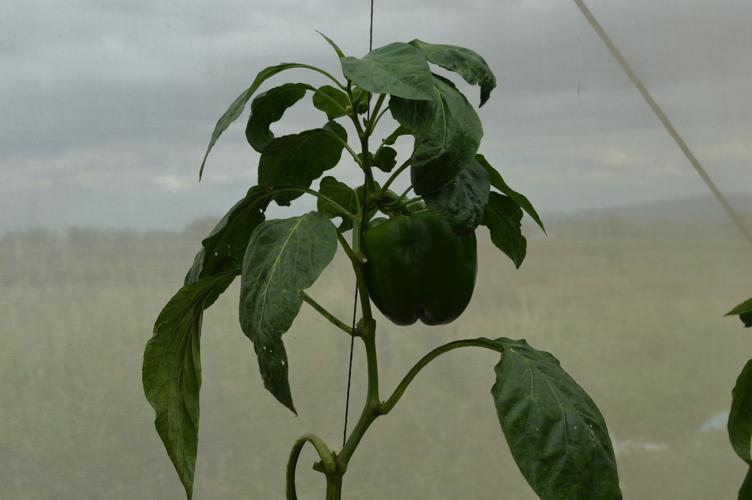BellPepper: (359, 199, 488, 341)
